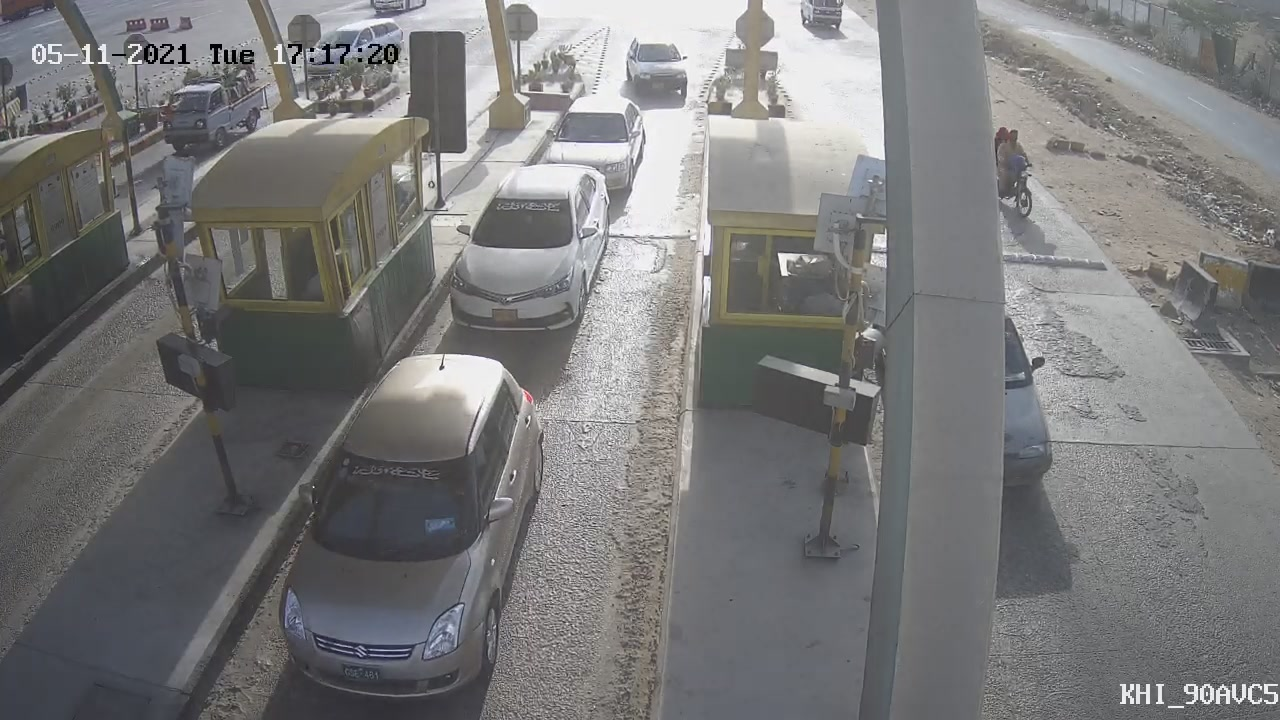F1: (424, 156, 627, 349)
